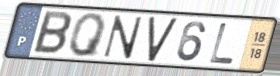6: (176, 20, 207, 63)
B: (30, 9, 74, 57)
L: (207, 21, 237, 66)
N: (100, 14, 145, 61)
Q: (67, 12, 108, 59)
V: (146, 16, 180, 63)
